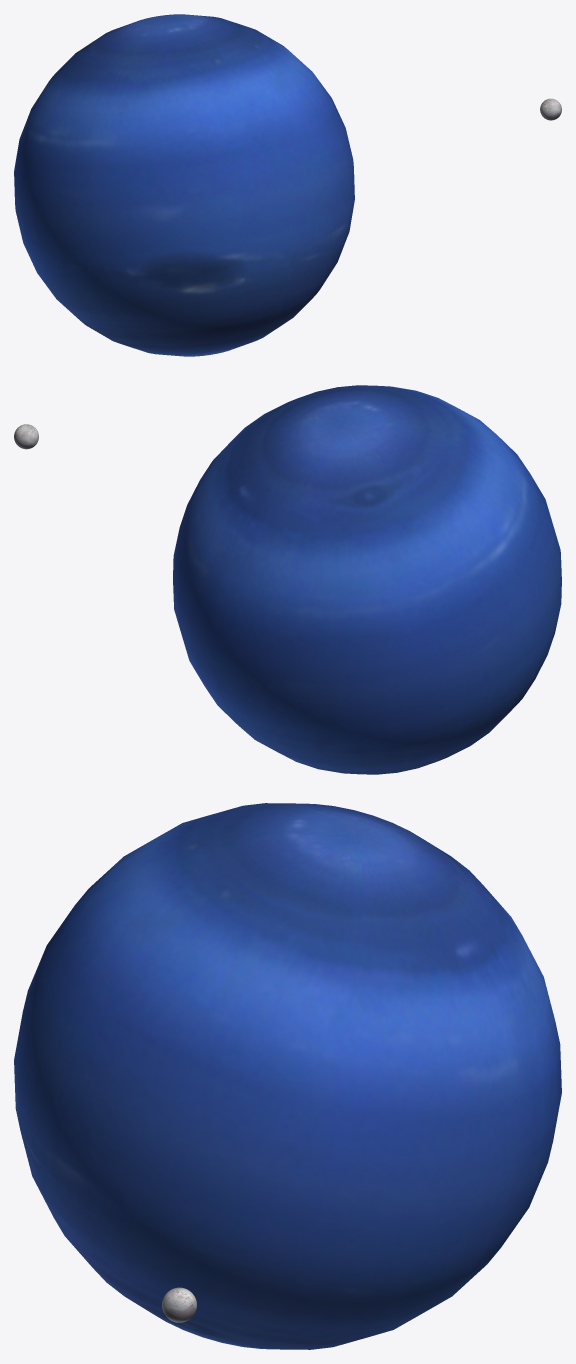
File: neptune.obj
The picture shows the model from 3 angles, top to bottom: view 1: azimuth 30°, elevation 25°; view 2: azimuth 150°, elevation 25°; view 3: azimuth 270°, elevation 25°; orthographic projection. The views are drawn at different scales.
Visible parts, largest first — view 1: Neptune_Mesh; view 2: Neptune_Mesh, Triton_Mesh.001; view 3: Neptune_Mesh, Triton_Mesh.001.
Boxes of the visible parts, <box> form: Neptune_Mesh: <box>14,14,354,356</box>; Neptune_Mesh: <box>173,385,561,774</box>; Triton_Mesh.001: <box>14,424,38,449</box>; Neptune_Mesh: <box>14,803,561,1349</box>; Triton_Mesh.001: <box>162,1287,196,1322</box>.
Size of the model in its own units: 26.29 by 15.87 by 15.87.
Materials: 2 (2 with a texture image).
